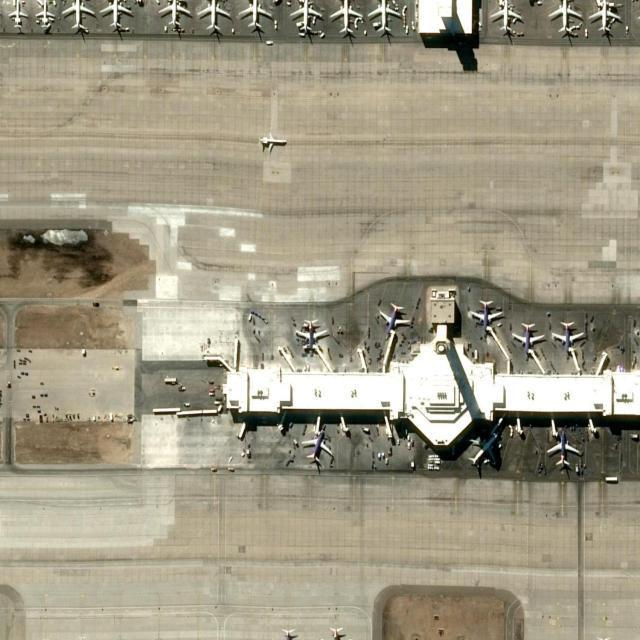Aircraft: (468, 429, 506, 473), (366, 0, 406, 40), (295, 317, 331, 359), (512, 321, 548, 363), (327, 0, 364, 40), (300, 429, 337, 468), (471, 300, 505, 340), (548, 433, 584, 470), (491, 1, 525, 37), (290, 0, 324, 36), (238, 0, 276, 32), (588, 0, 623, 34), (554, 321, 584, 360), (379, 304, 413, 338), (550, 0, 583, 35), (200, 0, 232, 33), (100, 0, 132, 32), (64, 0, 94, 33), (158, 0, 190, 30), (258, 132, 288, 154), (10, 0, 28, 29), (37, 0, 55, 28), (327, 621, 349, 640), (276, 626, 303, 640)
